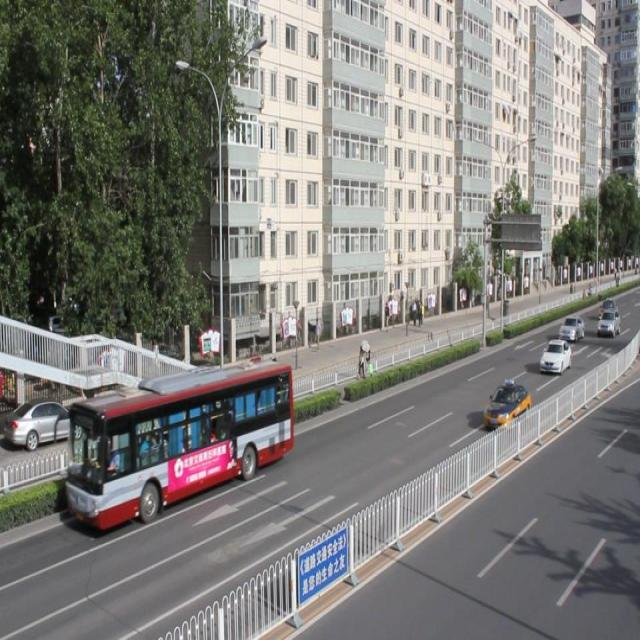car: (481, 379, 532, 430), (538, 336, 570, 373)
van: (68, 363, 292, 522)
